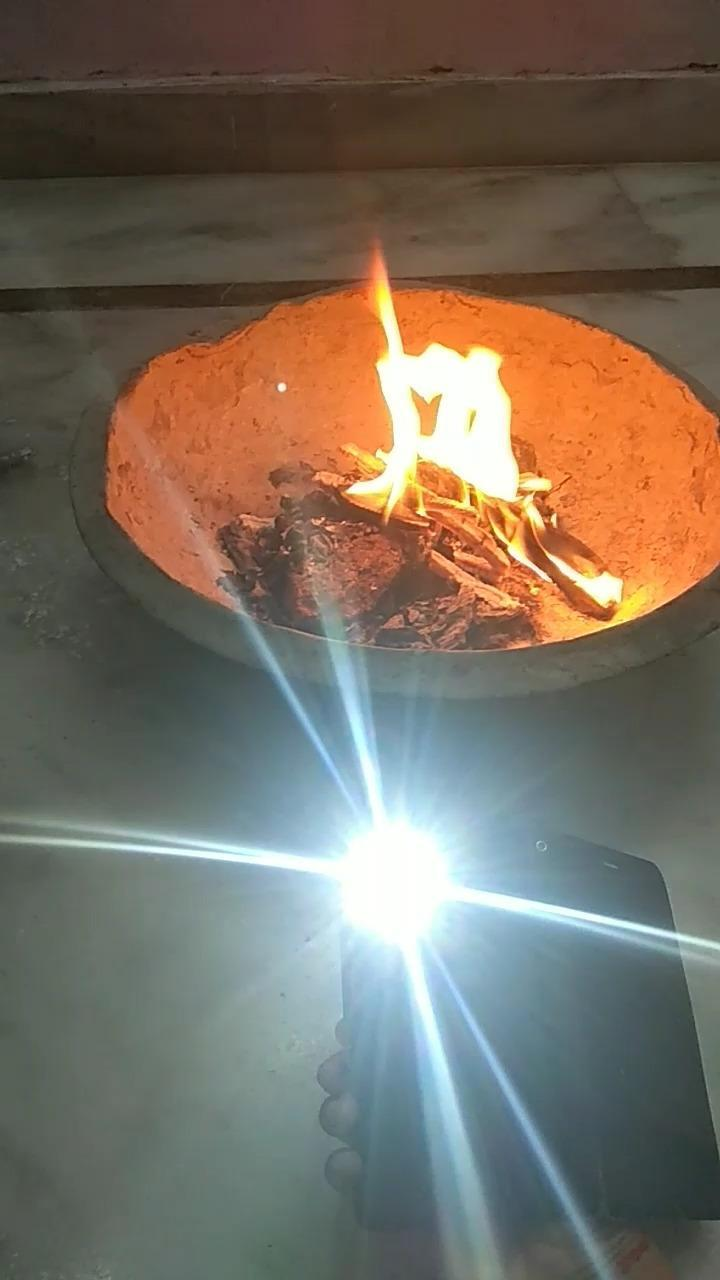fire: (333, 248, 537, 517), (548, 549, 634, 611)
